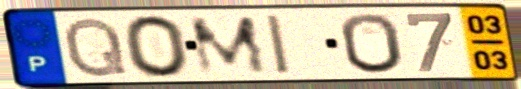7: (403, 11, 456, 74)
I: (263, 12, 295, 77)
M: (186, 14, 272, 77)
O: (120, 13, 193, 80), (337, 11, 407, 75)
Q: (61, 15, 131, 80)
